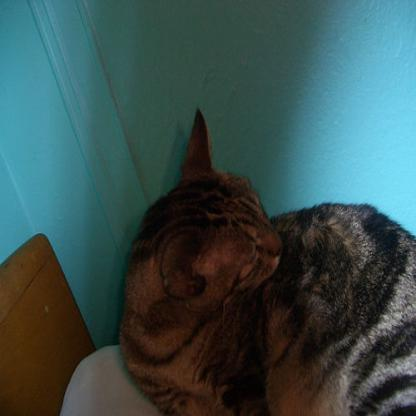cat: (117, 105, 415, 415)
